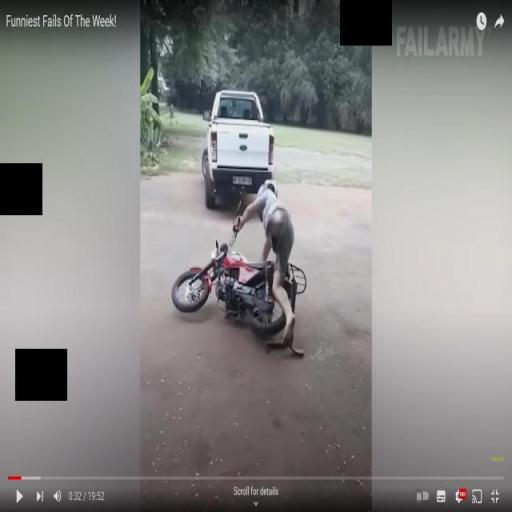Fall: (231, 176, 298, 352)
